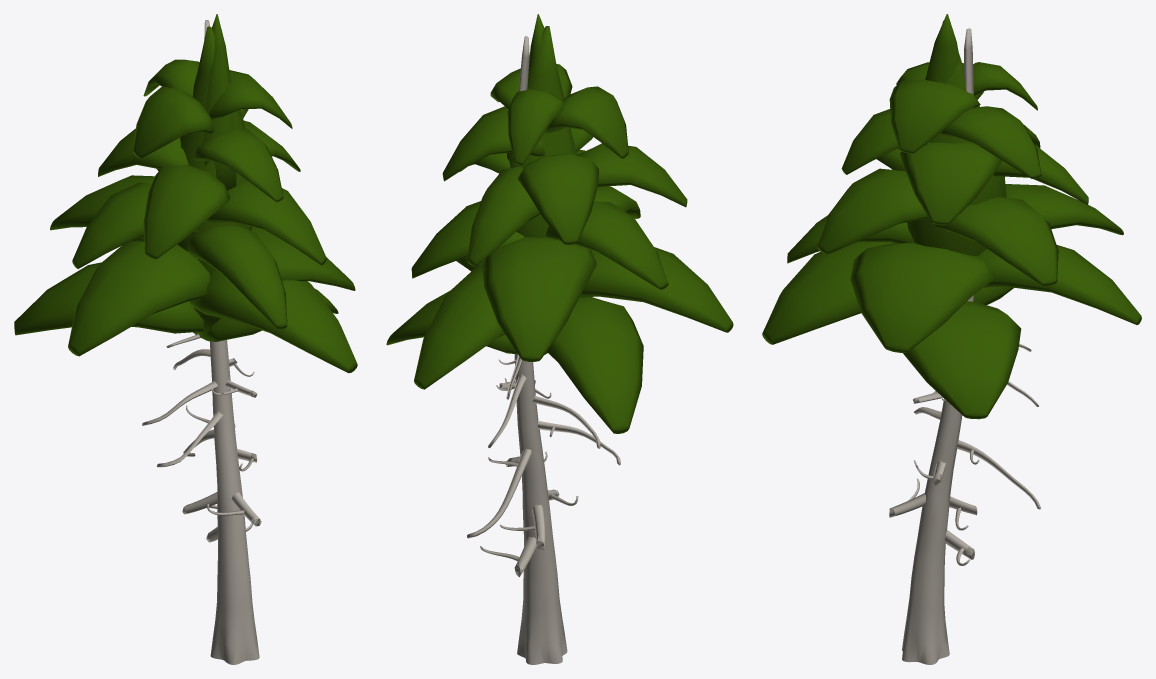
File: urman_winter_pine.glb
3 renders of one model, left to right at view 1: azimuth 30°, elevation 25°; view 2: azimuth 150°, elevation 25°; view 3: azimuth 270°, elevation 25°, orthographic. The views are drawn at different scales.
Visible parts, largest first — view 1: WinterPine_LOD0; view 2: WinterPine_LOD0; view 3: WinterPine_LOD0.
Boxes of the visible parts, x1,y1,x2,y2 form: WinterPine_LOD0: [14, 14, 357, 664]; WinterPine_LOD0: [386, 14, 733, 664]; WinterPine_LOD0: [762, 14, 1141, 664].
Size of what is drawn, in the model's own units: 0.4885 by 1 by 0.5405.
Materials: 2 (1 with a texture image).
